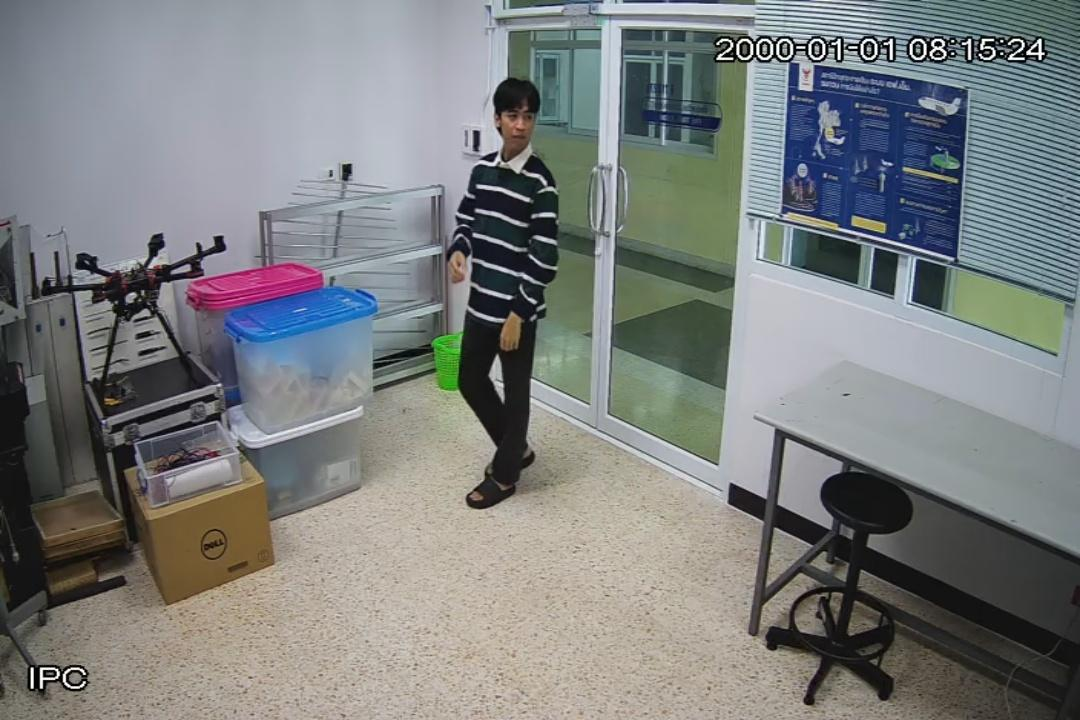normal: (447, 81, 559, 509)
